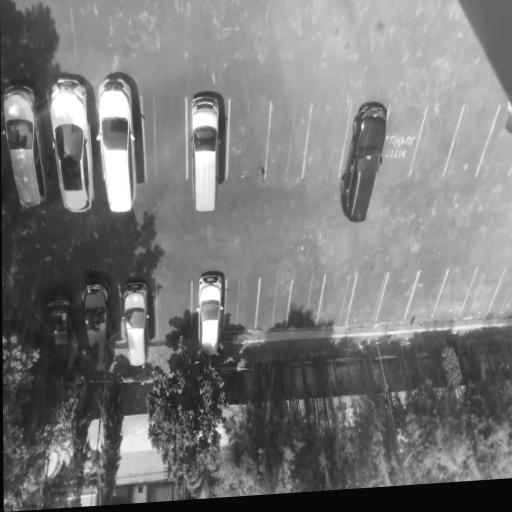Car: (46, 73, 97, 214), (1, 81, 51, 213), (339, 103, 392, 227), (93, 76, 138, 214), (41, 287, 88, 375), (78, 276, 115, 380), (191, 94, 221, 214), (196, 273, 227, 361), (120, 279, 149, 369)
Space Available: (141, 97, 188, 182), (443, 108, 499, 177), (411, 106, 463, 178), (304, 102, 352, 179), (265, 103, 312, 181), (227, 99, 271, 180), (379, 106, 427, 179), (478, 105, 512, 177), (461, 268, 505, 317), (256, 275, 295, 330), (317, 275, 359, 326), (407, 268, 449, 318), (157, 284, 193, 341), (349, 272, 390, 322), (287, 275, 326, 327), (224, 277, 260, 333), (378, 270, 418, 320), (435, 272, 477, 318), (489, 268, 512, 316)
